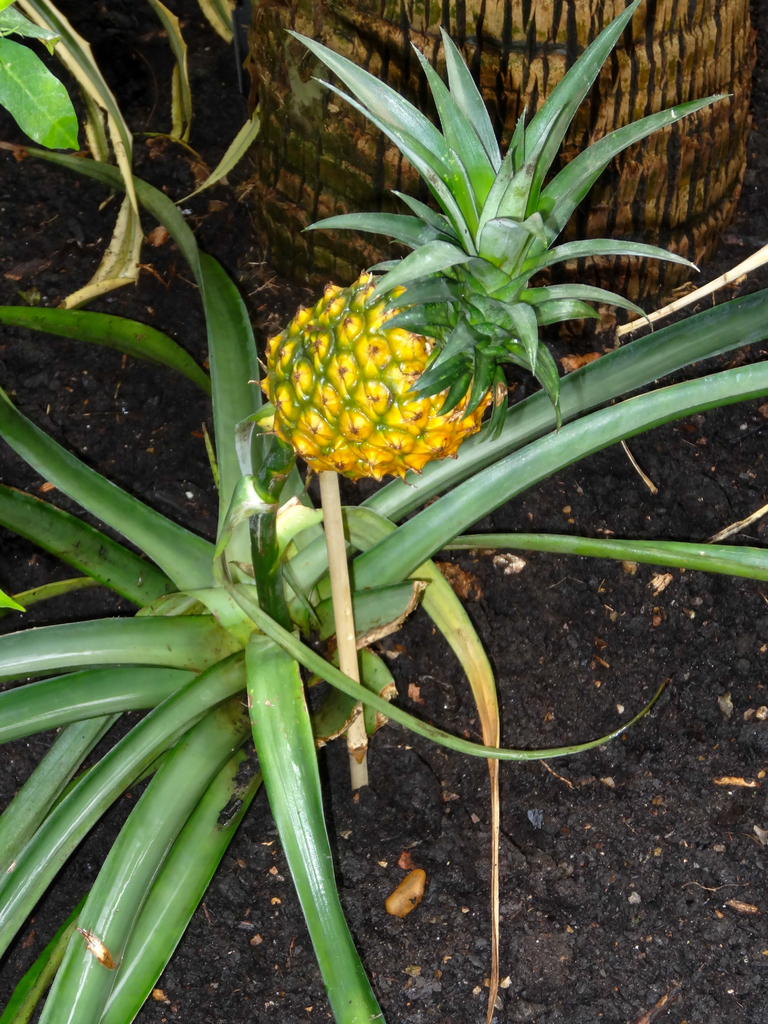Tree: (242, 0, 760, 344)
